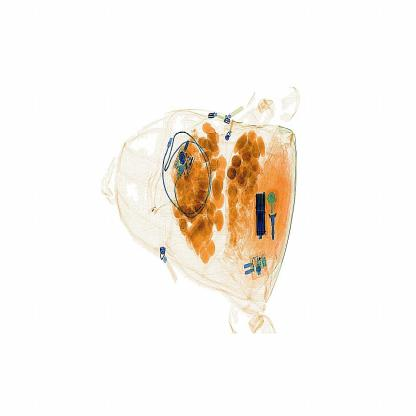scissors: (249, 175, 273, 253)
